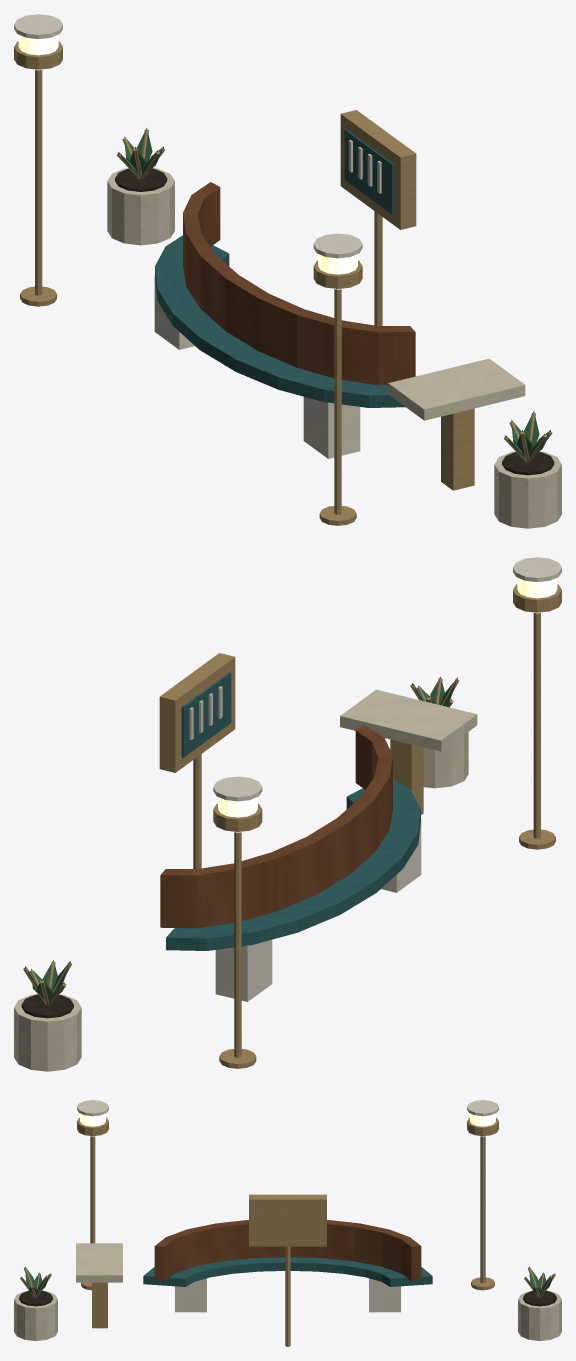
The model's file is G7_Gallery_D03_r001.glb.
3 renders of one model, top to bottom at view 1: azimuth 30°, elevation 25°; view 2: azimuth 150°, elevation 25°; view 3: azimuth 270°, elevation 25°, orthographic. The views are drawn at different scales.
Visible parts, largest first — view 1: G7_D03_wood_solid, G7_D03_metal_solid, G7_D03_stone_solid, G7_D03_teal_solid, G7_D03_ivory_solid, G7_D03_soil_solid, G7_D03_leaf_visual_plant, G7_D03_lens_visual_lens, G7_D03_ivory_visual_mark; view 2: G7_D03_wood_solid, G7_D03_metal_solid, G7_D03_teal_solid, G7_D03_stone_solid, G7_D03_ivory_solid, G7_D03_lens_visual_lens, G7_D03_leaf_visual_plant, G7_D03_soil_solid, G7_D03_ivory_visual_mark; view 3: G7_D03_metal_solid, G7_D03_wood_solid, G7_D03_stone_solid, G7_D03_teal_solid, G7_D03_ivory_solid, G7_D03_soil_solid, G7_D03_leaf_visual_plant, G7_D03_lens_visual_lens.
Boxes of the visible parts, <box> form: G7_D03_wood_solid: <box>183,182,415,385</box>; G7_D03_metal_solid: <box>14,41,552,525</box>; G7_D03_stone_solid: <box>107,168,561,528</box>; G7_D03_teal_solid: <box>155,129,405,407</box>; G7_D03_ivory_solid: <box>14,14,362,458</box>; G7_D03_soil_solid: <box>115,168,554,475</box>; G7_D03_leaf_visual_plant: <box>118,128,550,458</box>; G7_D03_lens_visual_lens: <box>18,34,357,289</box>; G7_D03_ivory_visual_mark: <box>348,140,381,193</box>; G7_D03_wood_solid: <box>160,725,392,928</box>; G7_D03_metal_solid: <box>23,584,561,1068</box>; G7_D03_teal_solid: <box>166,672,420,950</box>; G7_D03_stone_solid: <box>14,689,477,1071</box>; G7_D03_ivory_solid: <box>213,557,561,1001</box>; G7_D03_lens_visual_lens: <box>218,577,557,832</box>; G7_D03_leaf_visual_plant: <box>25,676,457,1001</box>; G7_D03_soil_solid: <box>21,994,73,1018</box>; G7_D03_ivory_visual_mark: <box>189,686,222,739</box>; G7_D03_metal_solid: <box>20,1117,555,1346</box>; G7_D03_wood_solid: <box>154,1220,421,1281</box>; G7_D03_stone_solid: <box>14,1243,561,1340</box>; G7_D03_teal_solid: <box>143,1257,432,1286</box>; G7_D03_ivory_solid: <box>77,1100,498,1312</box>; G7_D03_soil_solid: <box>19,1291,556,1306</box>; G7_D03_leaf_visual_plant: <box>21,1266,554,1295</box>; G7_D03_lens_visual_lens: <box>80,1113,495,1136</box>.
Bounding box in the file's own units: 1.65 × 1.97 × 5.48.
Materials: 8 (8 with a texture image).
